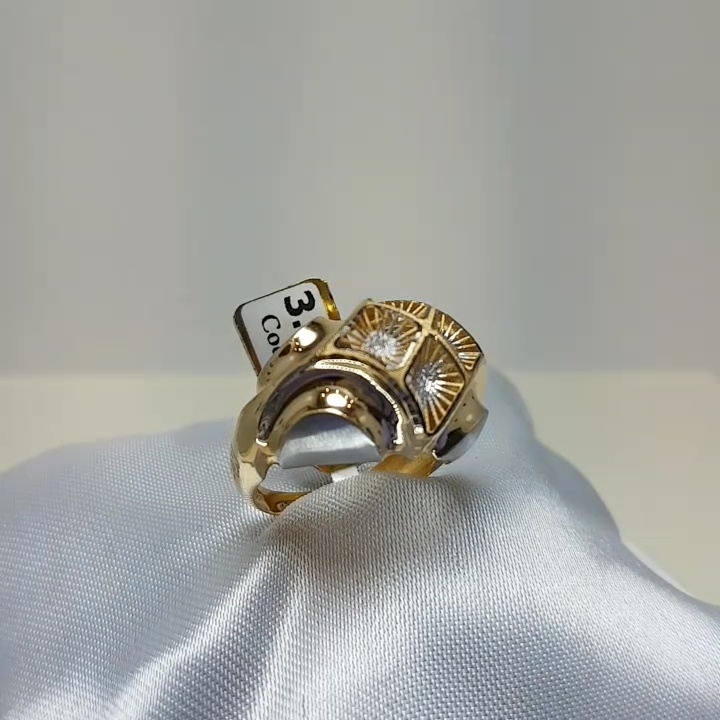Ring 2: (189, 282, 502, 533)
